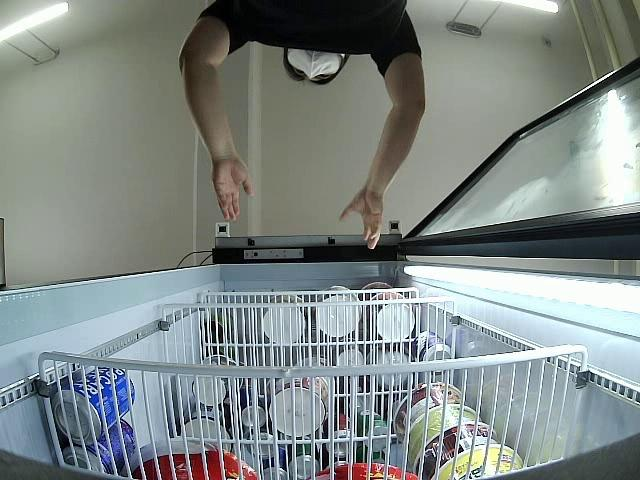00_hand: (339, 190, 383, 251), (212, 158, 251, 218)
